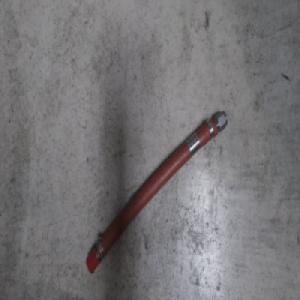Hose: (84, 108, 229, 277)
